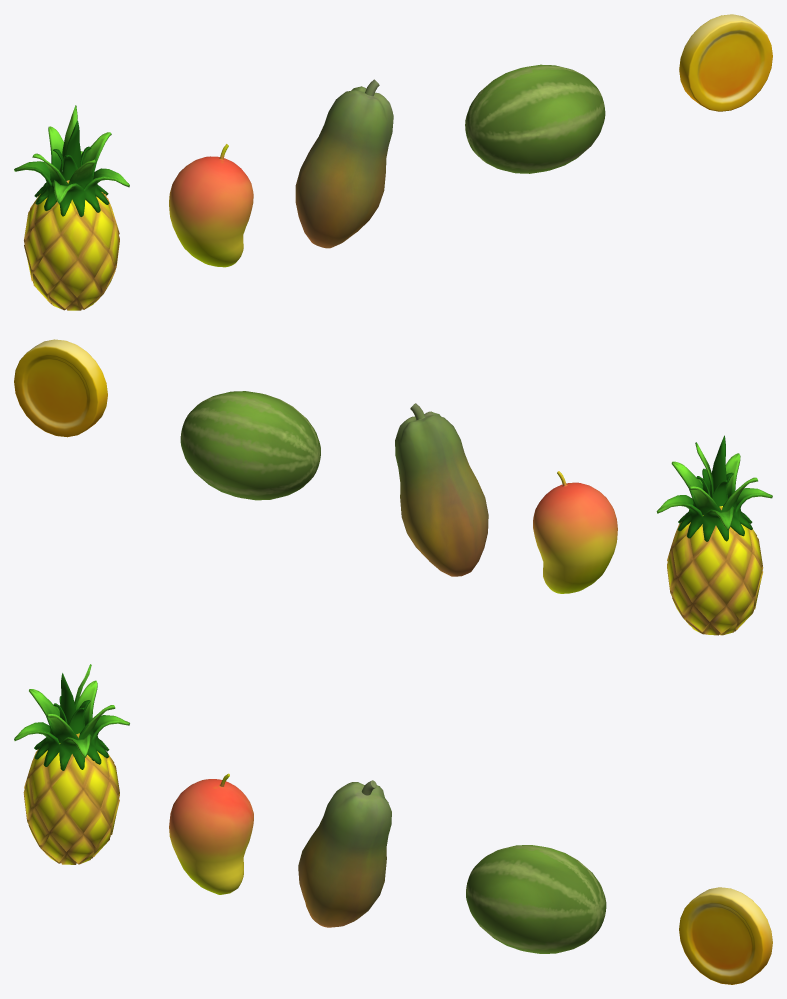
3 views of the same model, one above another, from view 1: azimuth 30°, elevation 25°; view 2: azimuth 150°, elevation 25°; view 3: azimuth 330°, elevation 25° (orthographic).
Visible parts, largest first — view 1: pinapple.006, watermelon, papaya, mengo, Cylinder; view 2: pinapple.006, watermelon, papaya, mengo, Cylinder; view 3: pinapple.006, watermelon, papaya, mengo, Cylinder.
Part boxes in pixels (left/top/right/bottom): pinapple.006: left=14, top=105, right=129, bottom=310; watermelon: left=465, top=64, right=605, bottom=173; papaya: left=295, top=79, right=393, bottom=248; mengo: left=169, top=144, right=253, bottom=267; Cylinder: left=679, top=14, right=772, bottom=111; pinapple.006: left=656, top=435, right=772, bottom=635; watermelon: left=180, top=391, right=320, bottom=500; papaya: left=395, top=403, right=488, bottom=576; mengo: left=533, top=471, right=617, bottom=593; Cylinder: left=14, top=339, right=107, bottom=437; pinapple.006: left=14, top=664, right=129, bottom=864; watermelon: left=466, top=845, right=606, bottom=953; papaya: left=298, top=780, right=391, bottom=927; mengo: left=169, top=773, right=253, bottom=894; Cylinder: left=679, top=887, right=772, bottom=984.
Bounding box in the file's own units: 14.21 × 3.62 × 1.79.
Materials: 1 (1 with a texture image).
